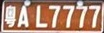A: (18, 0, 30, 27)
